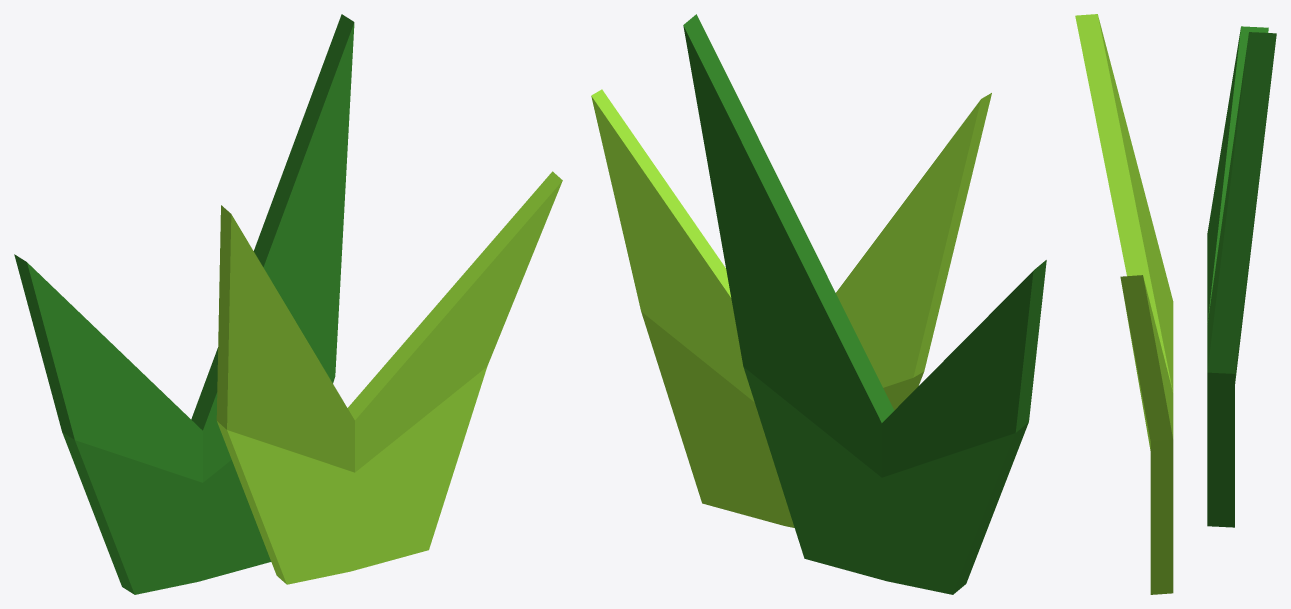
The model's file is GrassYUp.fbx.
3 renders of one model, left to right at view 1: azimuth 30°, elevation 25°; view 2: azimuth 150°, elevation 25°; view 3: azimuth 270°, elevation 25°, orthographic. The views are drawn at different scales.
Parts seen in each view (by area): view 1: Plane.001; view 2: Plane.001; view 3: Plane.001.
Part boxes in pixels (bbox=[...]): Plane.001: bbox=[14, 14, 562, 594]; Plane.001: bbox=[591, 14, 1046, 594]; Plane.001: bbox=[1075, 14, 1276, 594].
Bounding box in the file's own units: 0.2 × 0.2006 × 0.0667.
